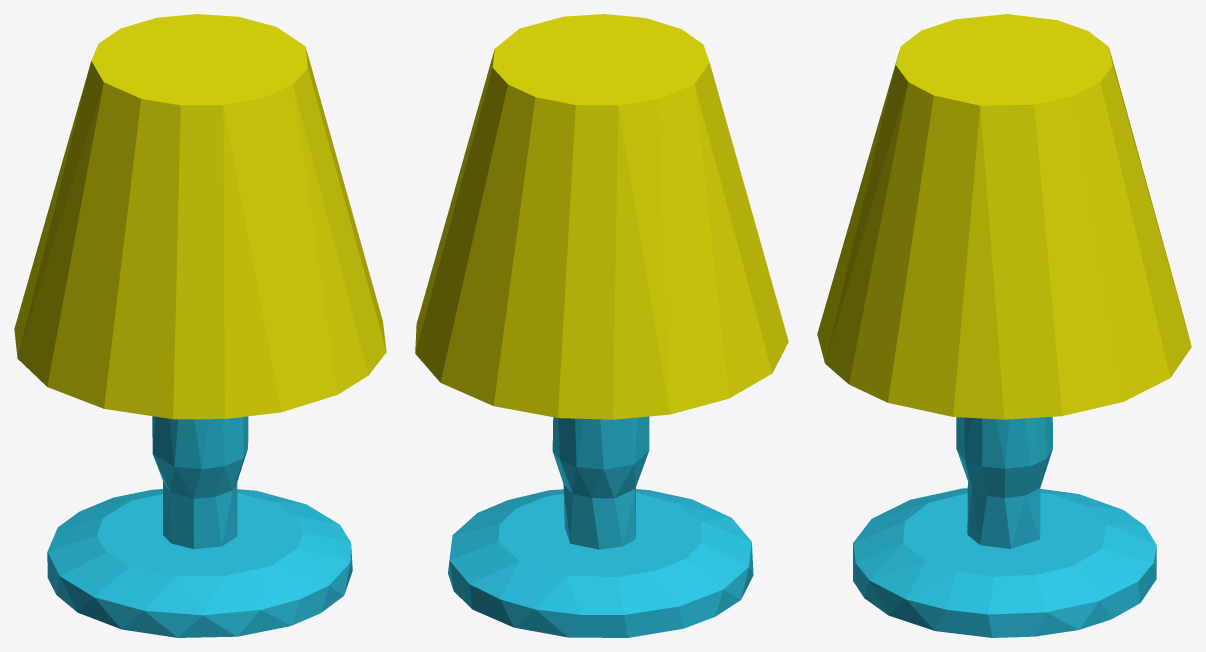
The model's file is lamb.fbx.
3 renders of one model, left to right at view 1: azimuth 30°, elevation 25°; view 2: azimuth 150°, elevation 25°; view 3: azimuth 270°, elevation 25°, orthographic.
Parts seen in each view (by area): view 1: Lamb; view 2: Lamb; view 3: Lamb.
Boxes of the visible parts, x1,y1,x2,y2 form: Lamb: (14,14,386,637); Lamb: (415,14,788,637); Lamb: (817,14,1191,637).
Bounding box in the file's own units: 0.2495 × 0.3774 × 0.2496.
